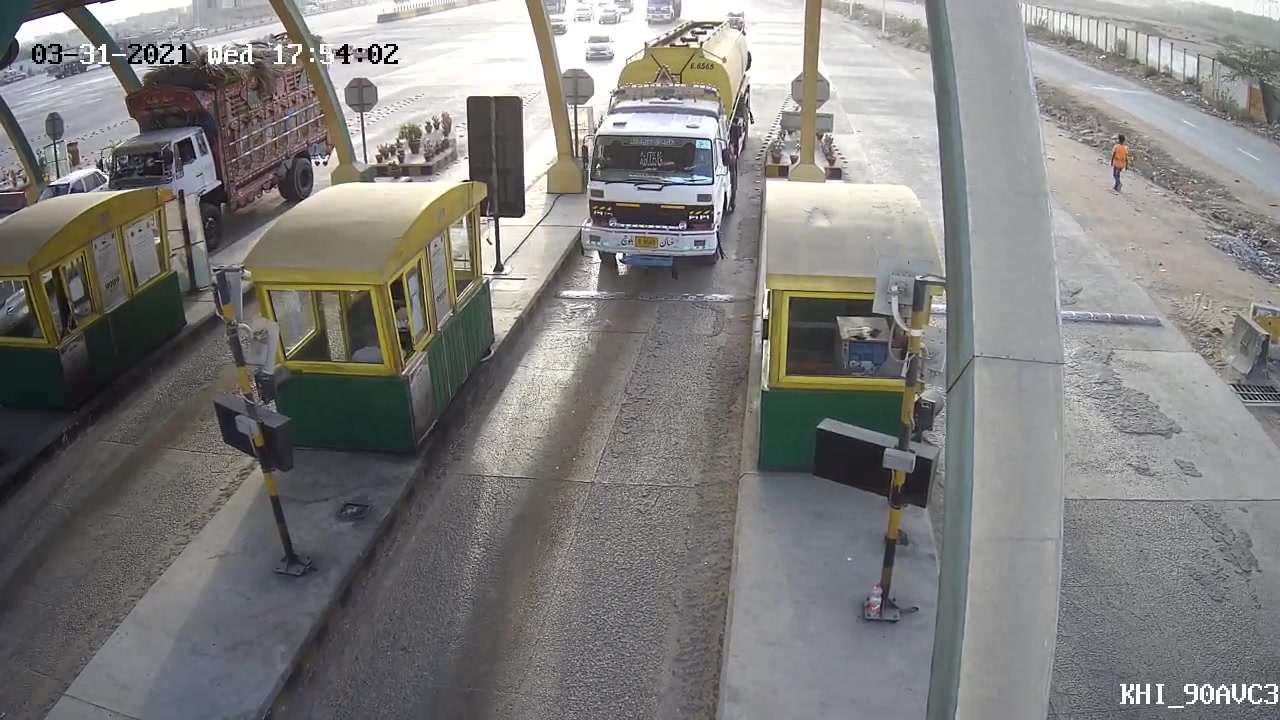F6: (564, 15, 760, 264)
